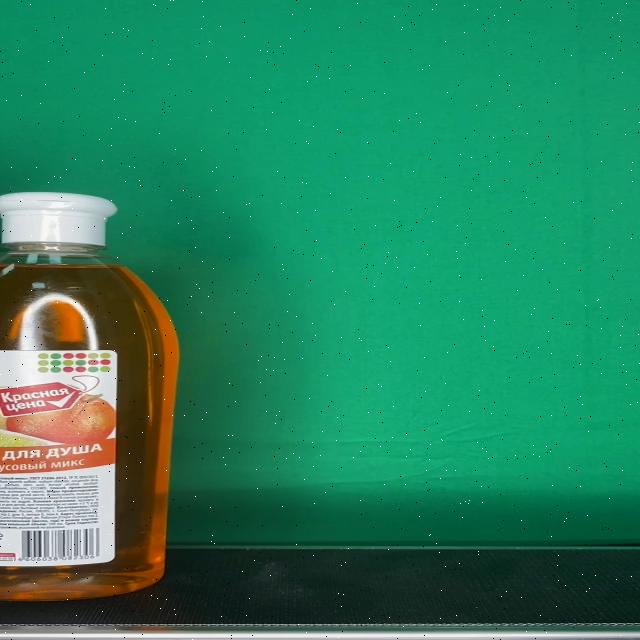Bottle: (0, 192, 182, 602)
Cap: (0, 193, 118, 245)
